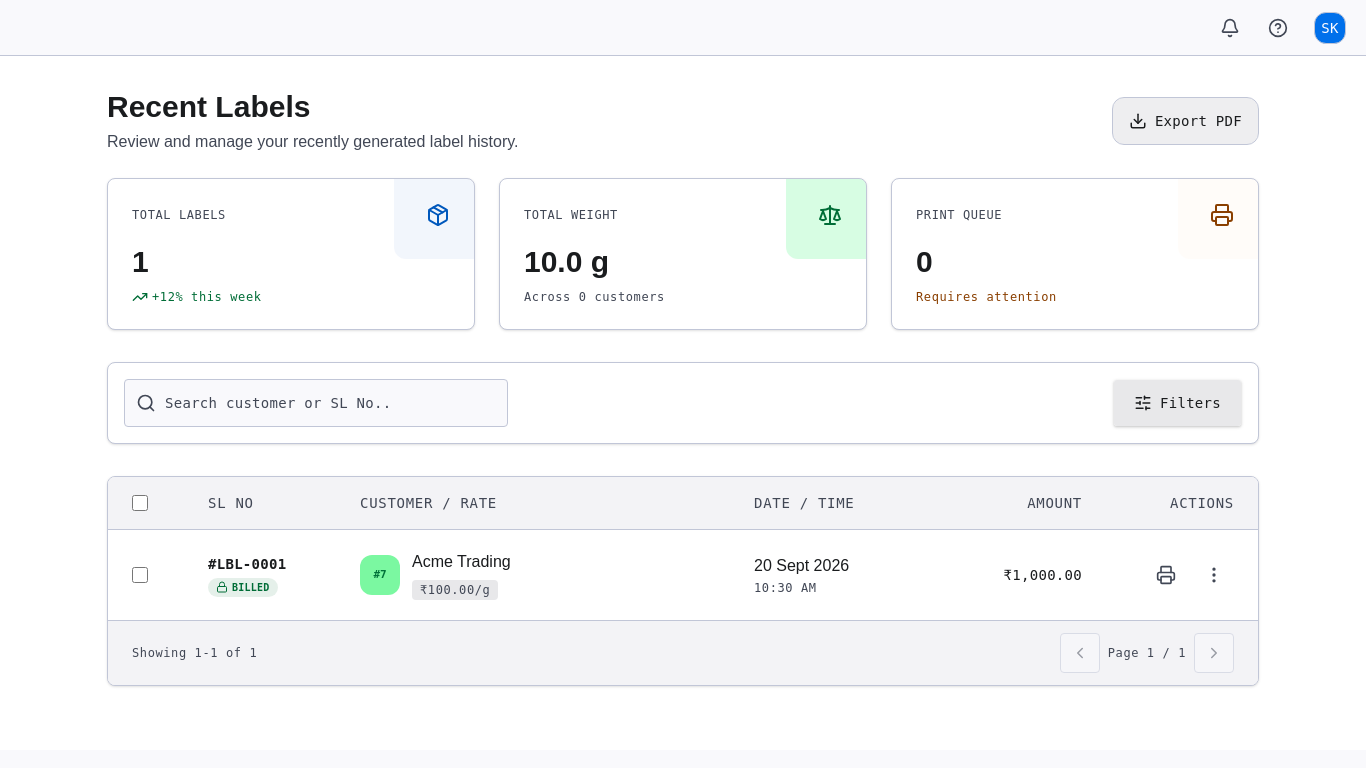
Test: Dashboard label row — actions menu › shows a locked menu item for a billed label
Expected: the text "Billed" is shown, 208,578 -> 278,596
Step 1. Click the button named "Label actions" → (1214, 575), box 1194,555 -> 1234,595
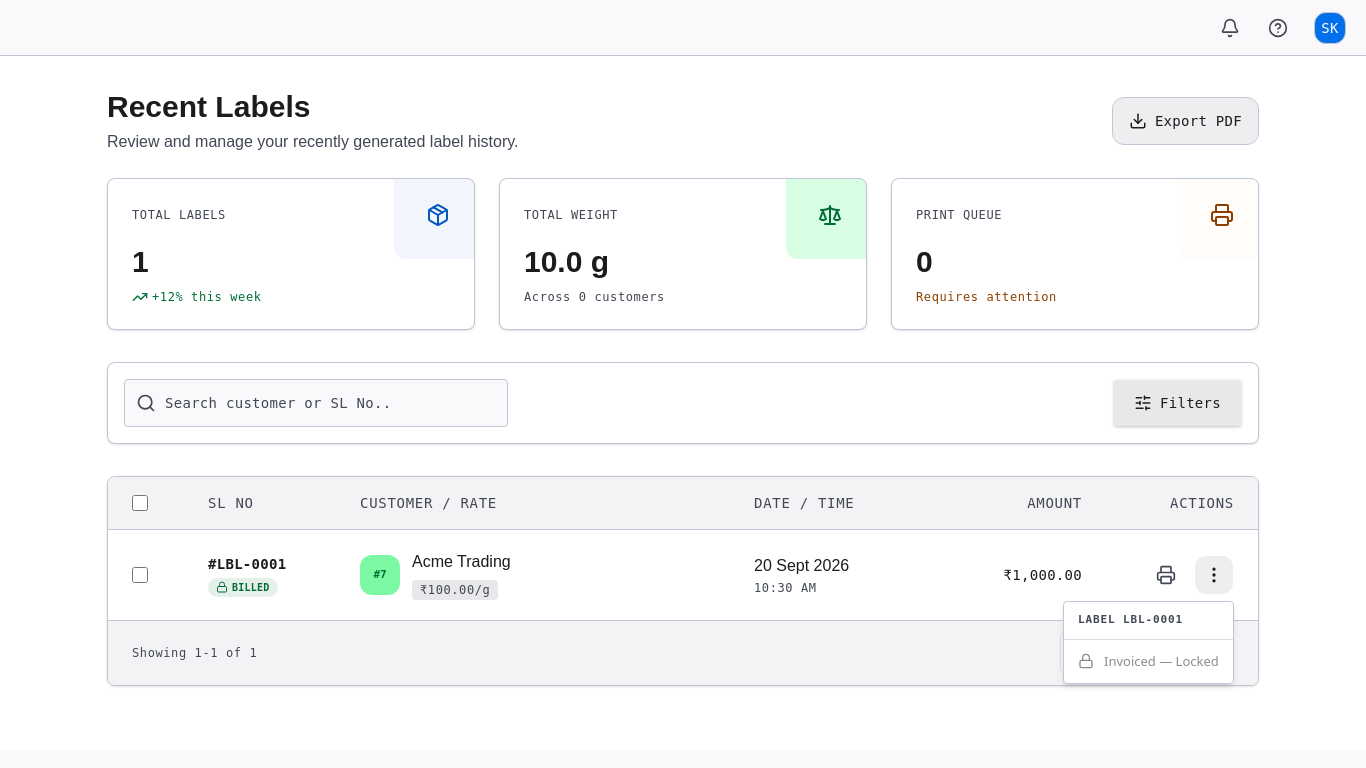
Result: the menu item "Invoiced — Locked" is shown at 1078,652 -> 1219,670
